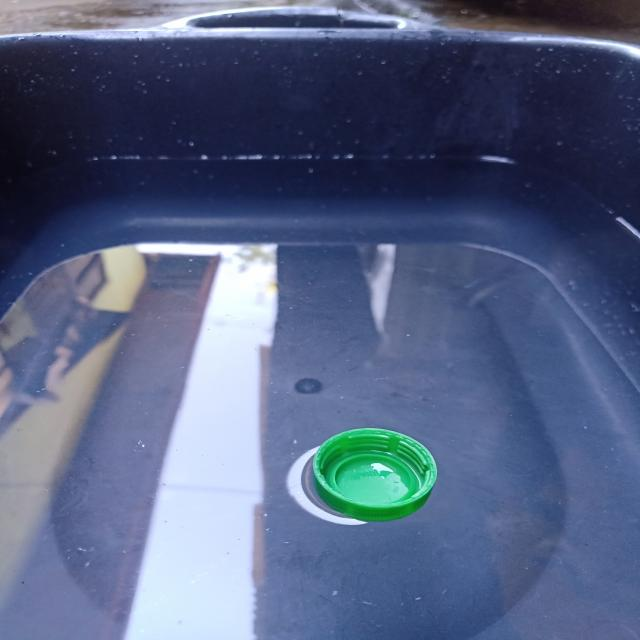Bottle Lid: (313, 428, 437, 522)
